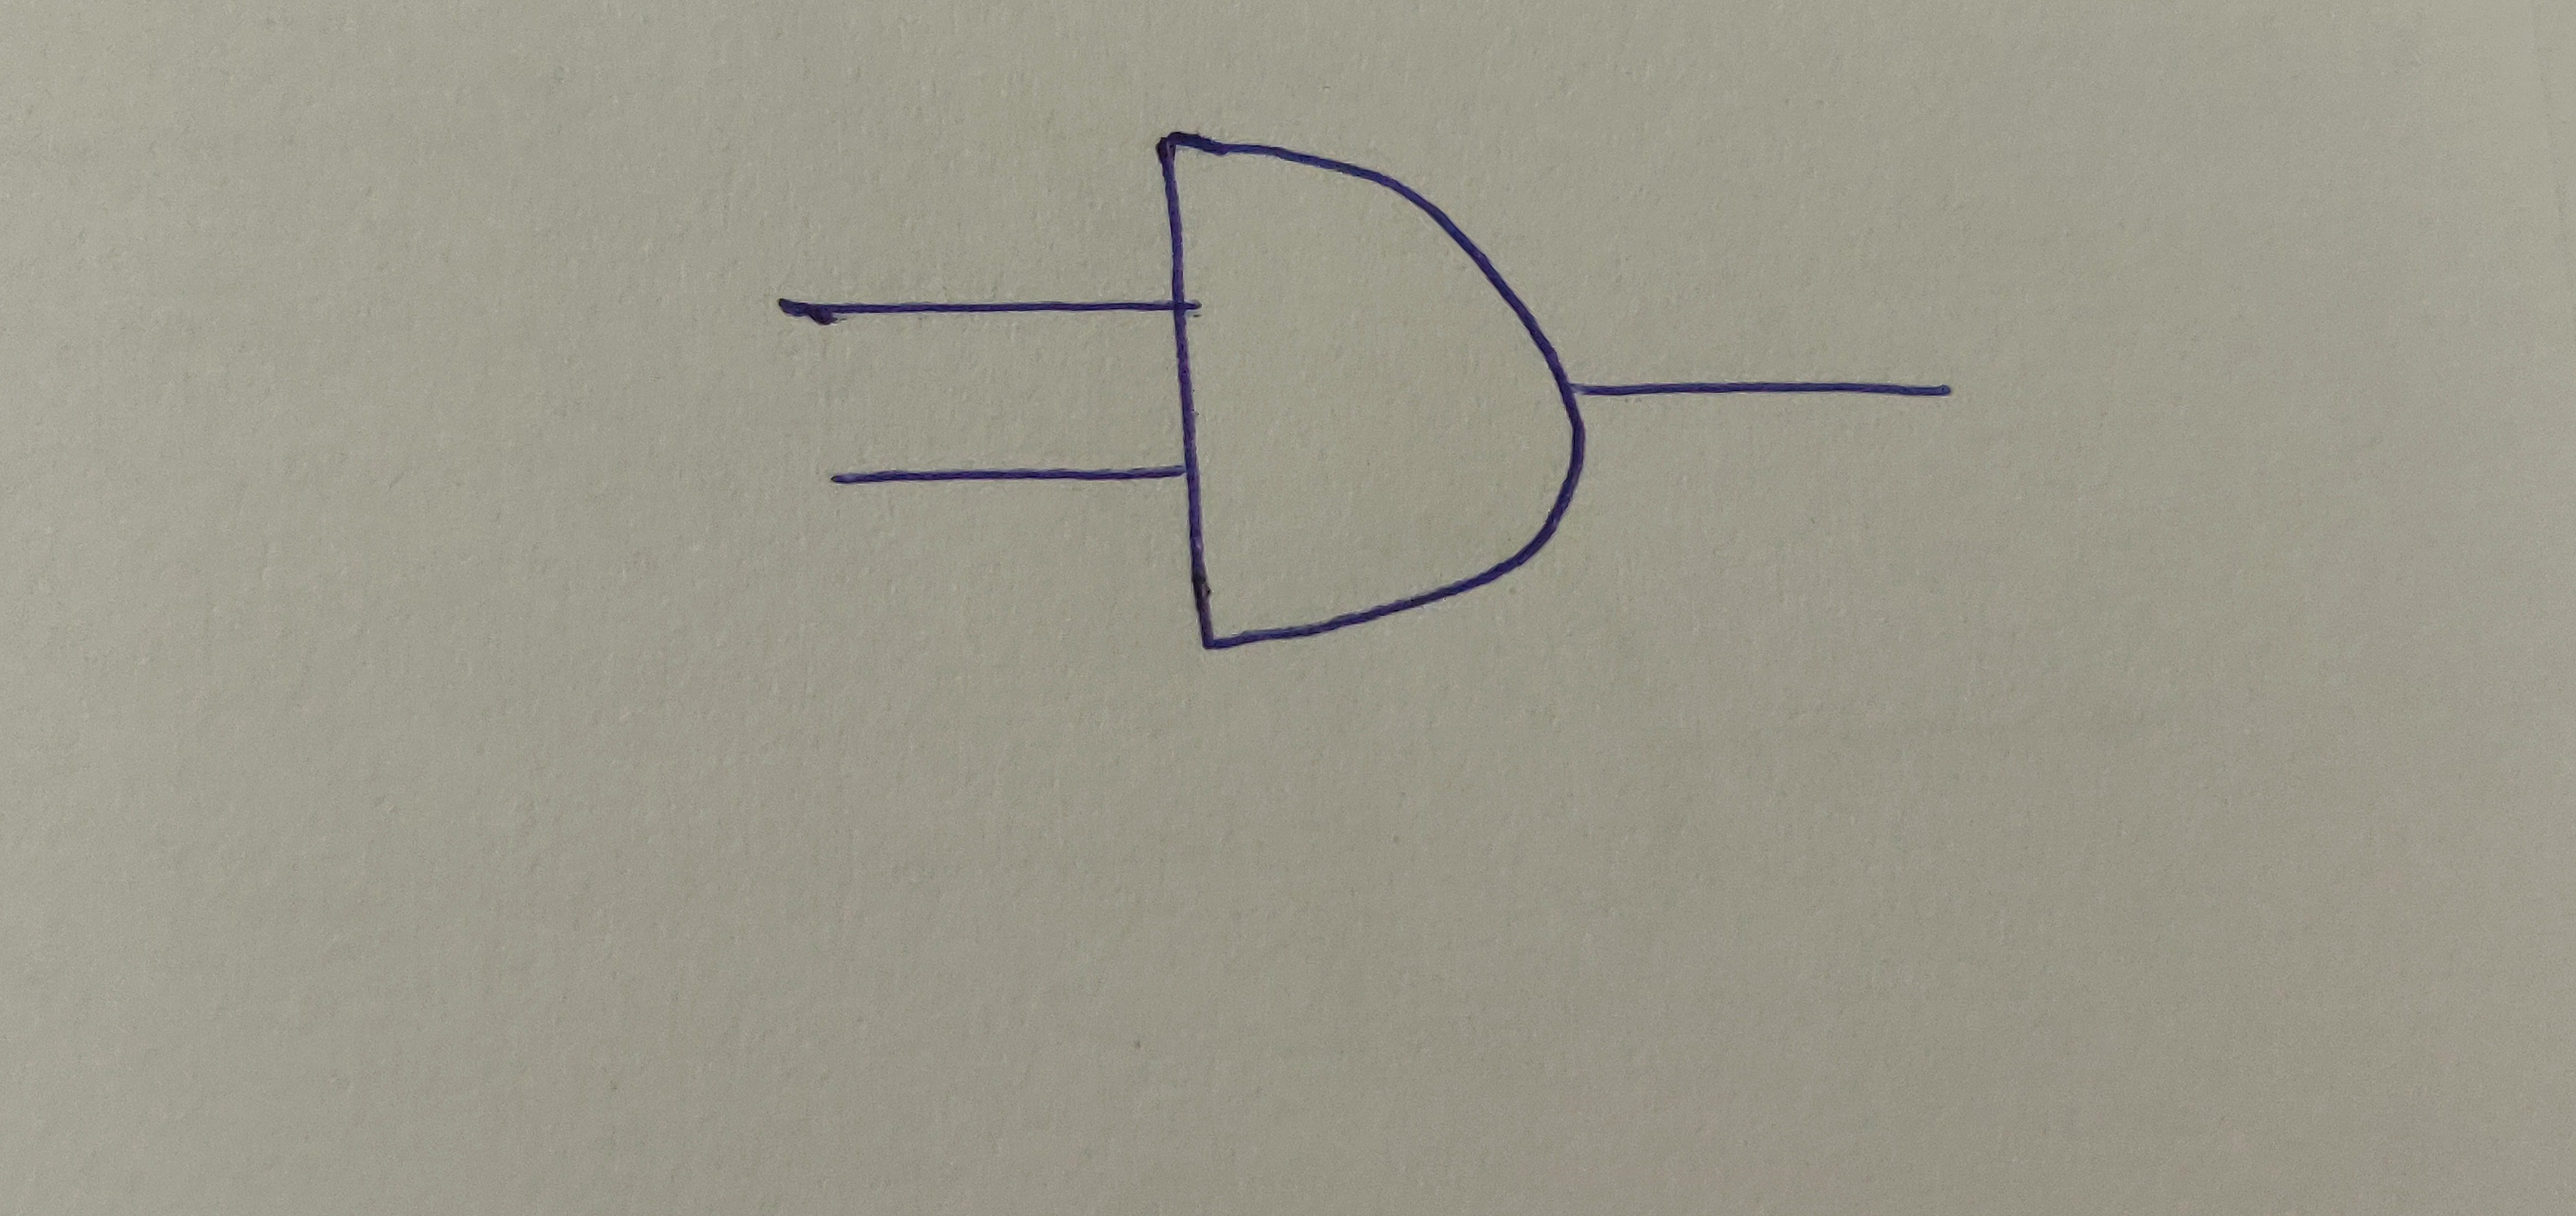and: (1153, 128, 1590, 656)
